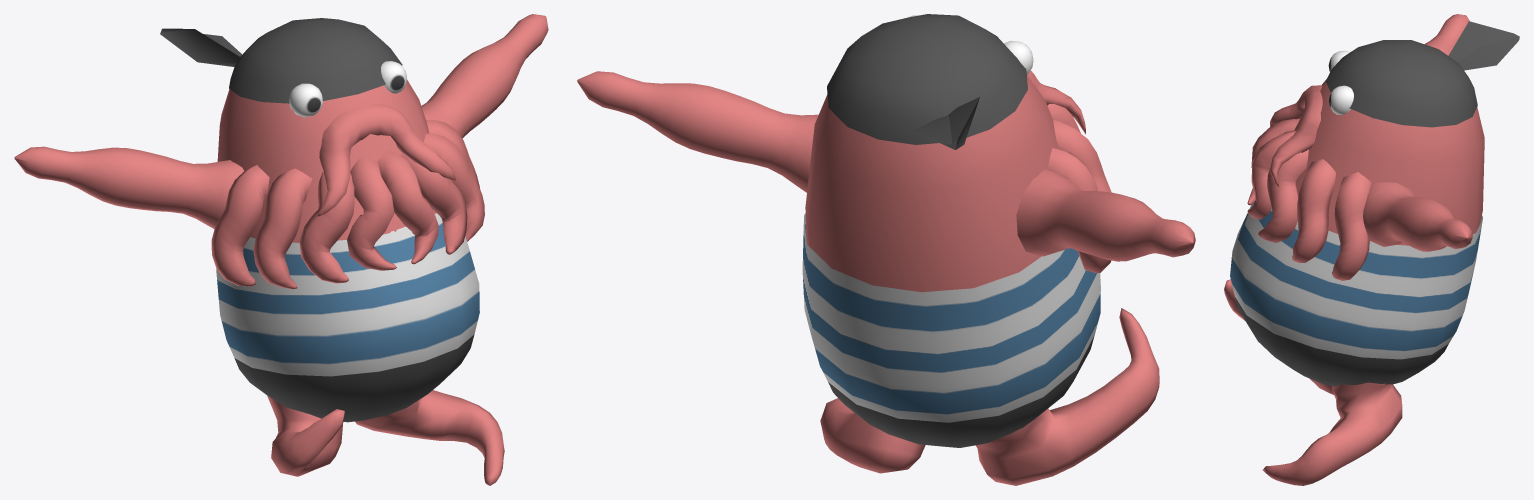
The model's file is tako_P02.5.fbx.
3 renders of one model, left to right at view 1: azimuth 30°, elevation 25°; view 2: azimuth 150°, elevation 25°; view 3: azimuth 270°, elevation 25°, orthographic. The views are drawn at different scales.
Visible parts, largest first — view 1: tako_P02h; view 2: tako_P02h; view 3: tako_P02h.
Boxes of the visible parts, box(x1,y1,x2,y2) form: tako_P02h: box(14, 14, 548, 485); tako_P02h: box(577, 14, 1195, 485); tako_P02h: box(1224, 14, 1519, 485).
Bounding box in the file's own units: 11.16 × 8.67 × 6.02.
Materials: 1 (1 with a texture image).
